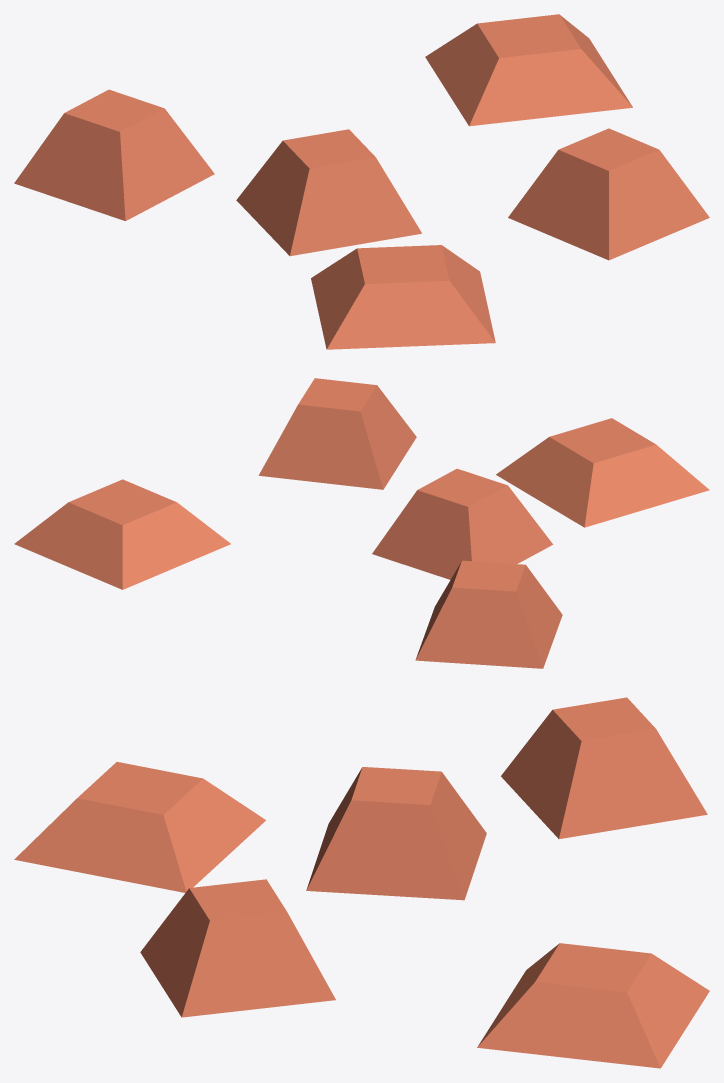
Rendered from rocks_smallA.glb.
3 views of the same model, one above another, from view 1: azimuth 30°, elevation 25°; view 2: azimuth 150°, elevation 25°; view 3: azimuth 270°, elevation 25° (orthographic). The views are drawn at different scales.
Visible parts, largest first — view 1: rocks_smallA; view 2: rocks_smallA; view 3: rocks_smallA.
Part boxes in pixels (x1,y1,x2,y2): rocks_smallA: [14, 14, 709, 349]; rocks_smallA: [14, 378, 709, 668]; rocks_smallA: [14, 697, 709, 1068].
Size of the model in its own units: 0.9372 by 0.1051 by 0.8698.
